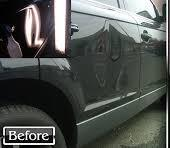dent: (96, 20, 130, 64)
